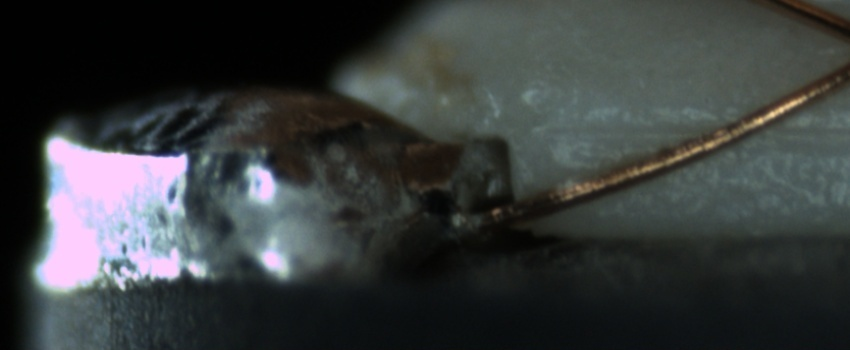DL: (556, 96, 845, 163)
